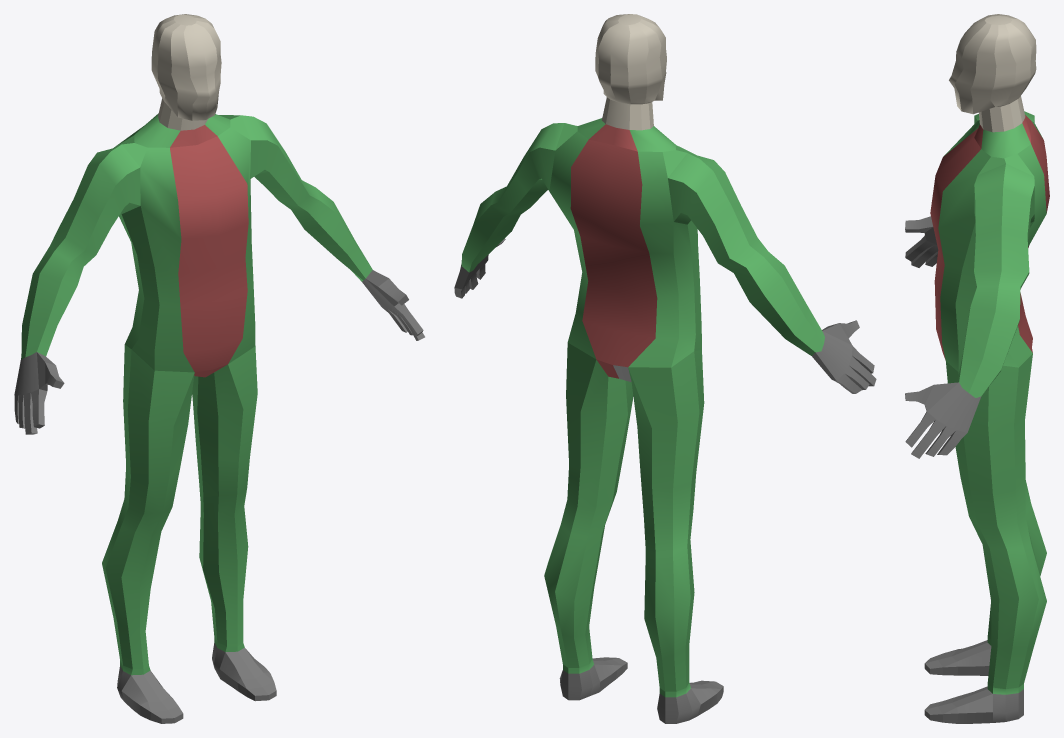
File: dude.fbx
3 renders of one model, left to right at view 1: azimuth 30°, elevation 25°; view 2: azimuth 150°, elevation 25°; view 3: azimuth 270°, elevation 25°, orthographic. The views are drawn at different scales.
Parts seen in each view (by area): view 1: Body2; view 2: Body2; view 3: Body2.
Boxes of the visible parts, x1=… form: Body2: x1=14, y1=14, x2=424, y2=723; Body2: x1=454, y1=14, x2=876, y2=723; Body2: x1=905, y1=14, x2=1049, y2=723.
Bounding box in the file's own units: 14.17 × 22.69 × 4.43.
